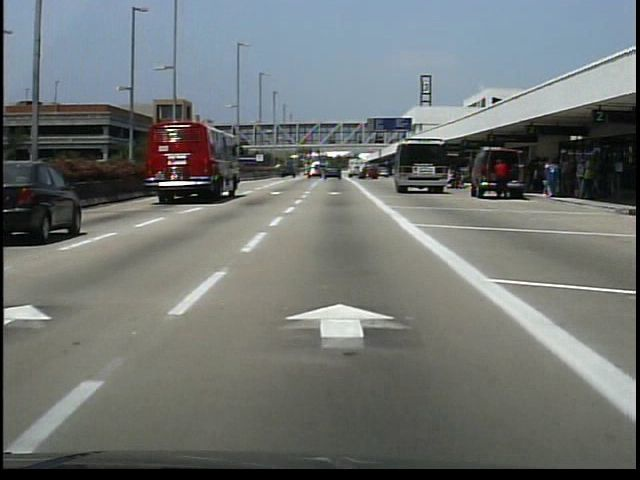person: (492, 159, 511, 206), (444, 170, 464, 195)
